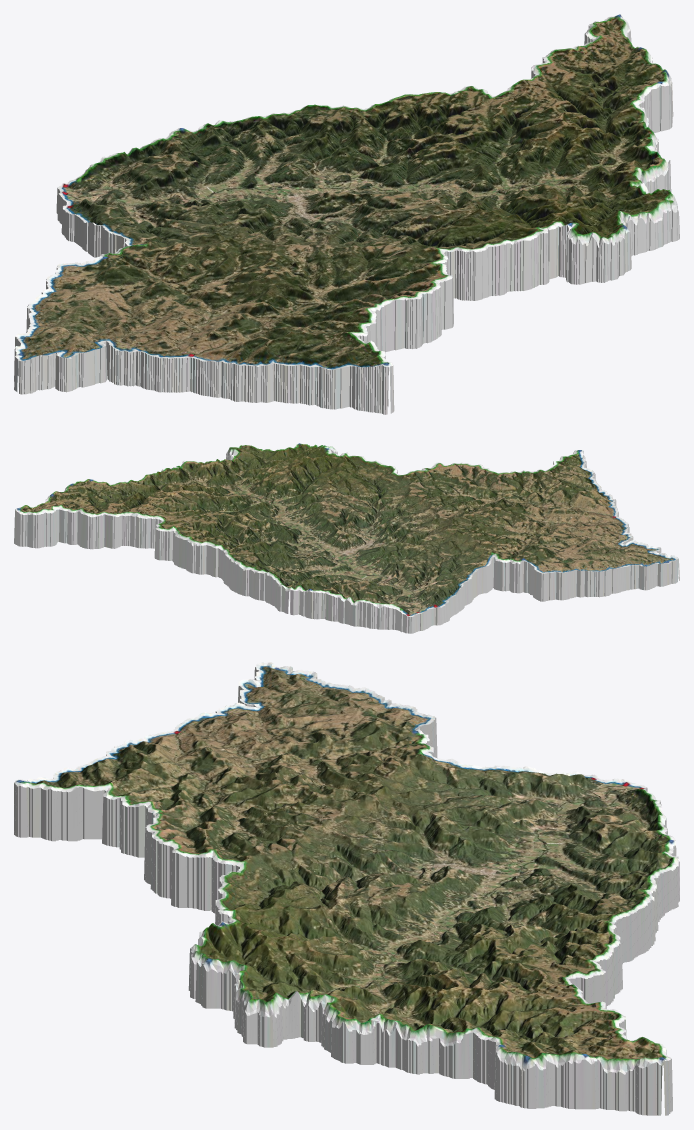
3 views of the same model, one above another, from view 1: azimuth 30°, elevation 25°; view 2: azimuth 150°, elevation 25°; view 3: azimuth 270°, elevation 25° (orthographic). The views are drawn at different scales.
Size of the model in its own units: 0.9969 by 0.0636 by 0.671.
1 material, 1 textured.
